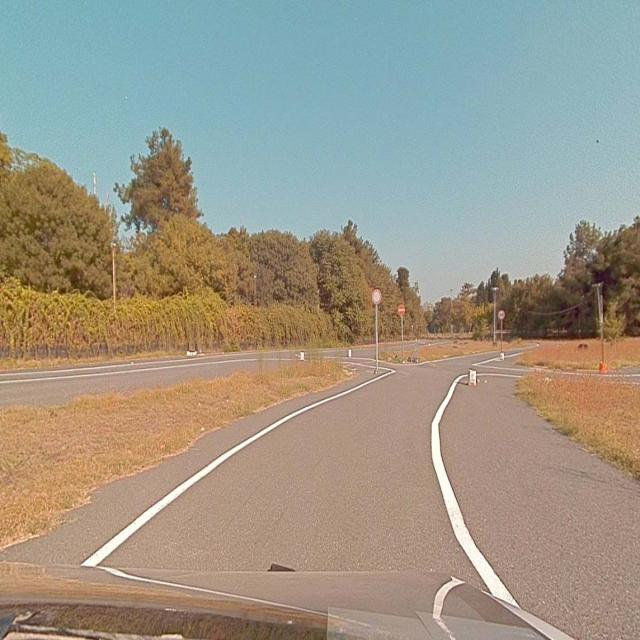girisyok: (399, 305, 405, 315)
